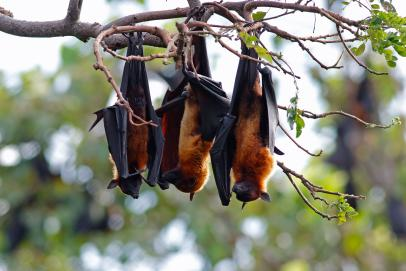bats: (218, 6, 301, 207), (154, 11, 221, 209), (92, 18, 156, 207)
